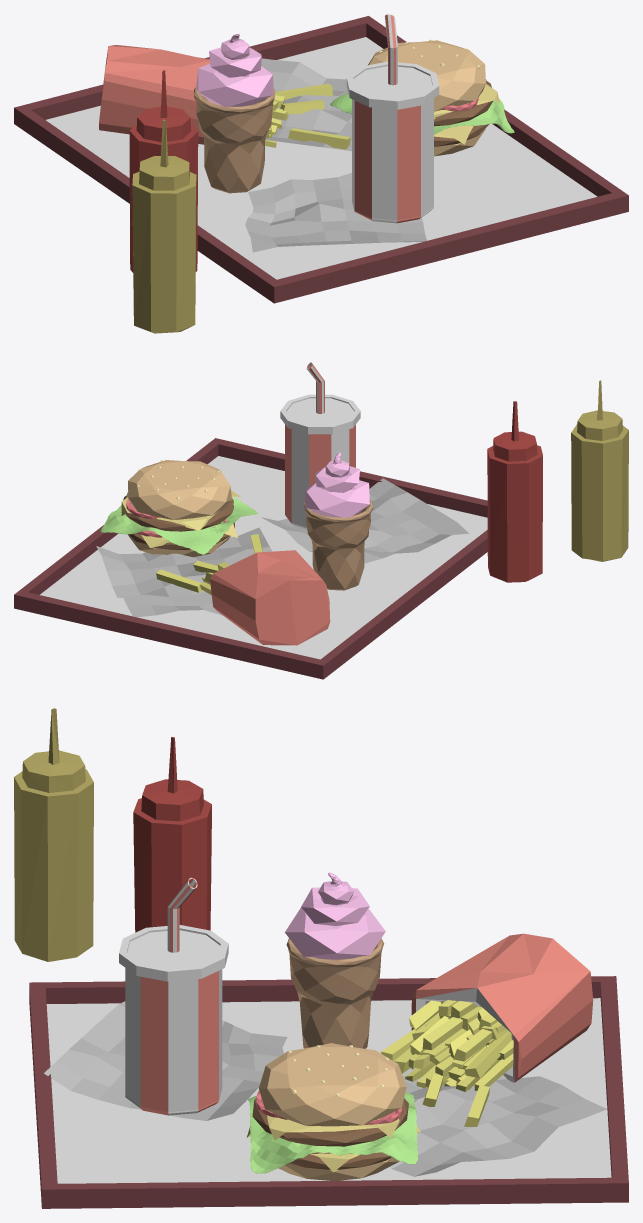
Rendered from fast food.fbx.
The picture shows the model from 3 angles, top to bottom: view 1: azimuth 30°, elevation 25°; view 2: azimuth 150°, elevation 25°; view 3: azimuth 270°, elevation 25°; orthographic projection. The views are drawn at different scales.
Visible parts, largest first — view 1: Plane, Cylinder.005, Cylinder.007, Cube.003, Plane.003, Cylinder.002, Plane.004, Plane.001, Cylinder.006, Plane.006, Plane.005, Plane.007; view 2: Plane, Cylinder.002, Plane.004, Cylinder.007, Cylinder.006, Cube.003, Cylinder.005, Plane.001, Plane.003, Plane.005; view 3: Plane, Plane.004, Cylinder.002, Cylinder.005, Cylinder.007, Cube.003, Plane.001, Cylinder.006, Plane.003.
Boxes of the visible parts, x1=… form: Plane: x1=14, y1=16, x2=628, y2=303; Cylinder.005: x1=346, y1=14, x2=439, y2=223; Cylinder.007: x1=132, y1=119, x2=196, y2=333; Cube.003: x1=194, y1=34, x2=275, y2=193; Plane.003: x1=245, y1=173, x2=426, y2=252; Cylinder.002: x1=330, y1=39, x2=514, y2=156; Plane.004: x1=99, y1=45, x2=287, y2=147; Plane.001: x1=261, y1=58, x2=351, y2=150; Cylinder.006: x1=129, y1=70, x2=198, y2=272; Plane.006: x1=288, y1=128, x2=350, y2=149; Plane.005: x1=275, y1=83, x2=332, y2=99; Plane.007: x1=280, y1=100, x2=324, y2=114; Plane: x1=14, y1=438, x2=487, y2=679; Cylinder.002: x1=101, y1=460, x2=257, y2=557; Plane.004: x1=199, y1=550, x2=330, y2=645; Cylinder.007: x1=571, y1=380, x2=628, y2=561; Cylinder.006: x1=487, y1=401, x2=542, y2=582; Cube.003: x1=304, y1=452, x2=372, y2=590; Cylinder.005: x1=280, y1=362, x2=360, y2=529; Plane.001: x1=96, y1=527, x2=272, y2=617; Plane.003: x1=261, y1=478, x2=468, y2=563; Plane.005: x1=156, y1=569, x2=202, y2=592; Plane: x1=29, y1=976, x2=628, y2=1208; Plane.004: x1=381, y1=933, x2=593, y2=1091; Cylinder.002: x1=246, y1=1043, x2=420, y2=1180; Cylinder.005: x1=119, y1=877, x2=228, y2=1115; Cylinder.007: x1=14, y1=708, x2=93, y2=961; Cube.003: x1=285, y1=872, x2=385, y2=1048; Plane.001: x1=390, y1=1068, x2=606, y2=1176; Cylinder.006: x1=133, y1=737, x2=211, y2=932; Plane.003: x1=44, y1=1001, x2=287, y2=1120.
Bounding box in the file's own units: 674 × 270 × 623.
